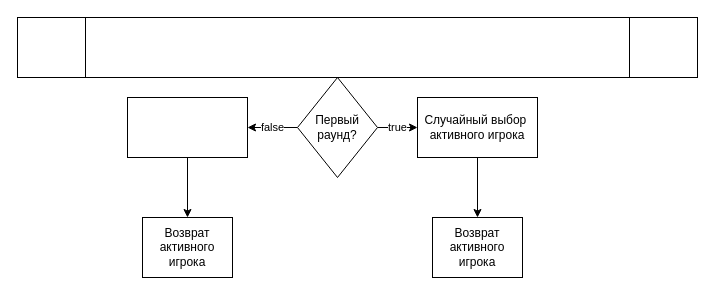
Image size: 715x295. Some labels were removed from this diagram. The shapes that lost their labels are listed below. From the top down, each one's centre as x and y in pixels, then its label:
pixel 357 47: function getActivePlayer()
pixel 187 127: Выбираем следующего игрока из имеющихся
